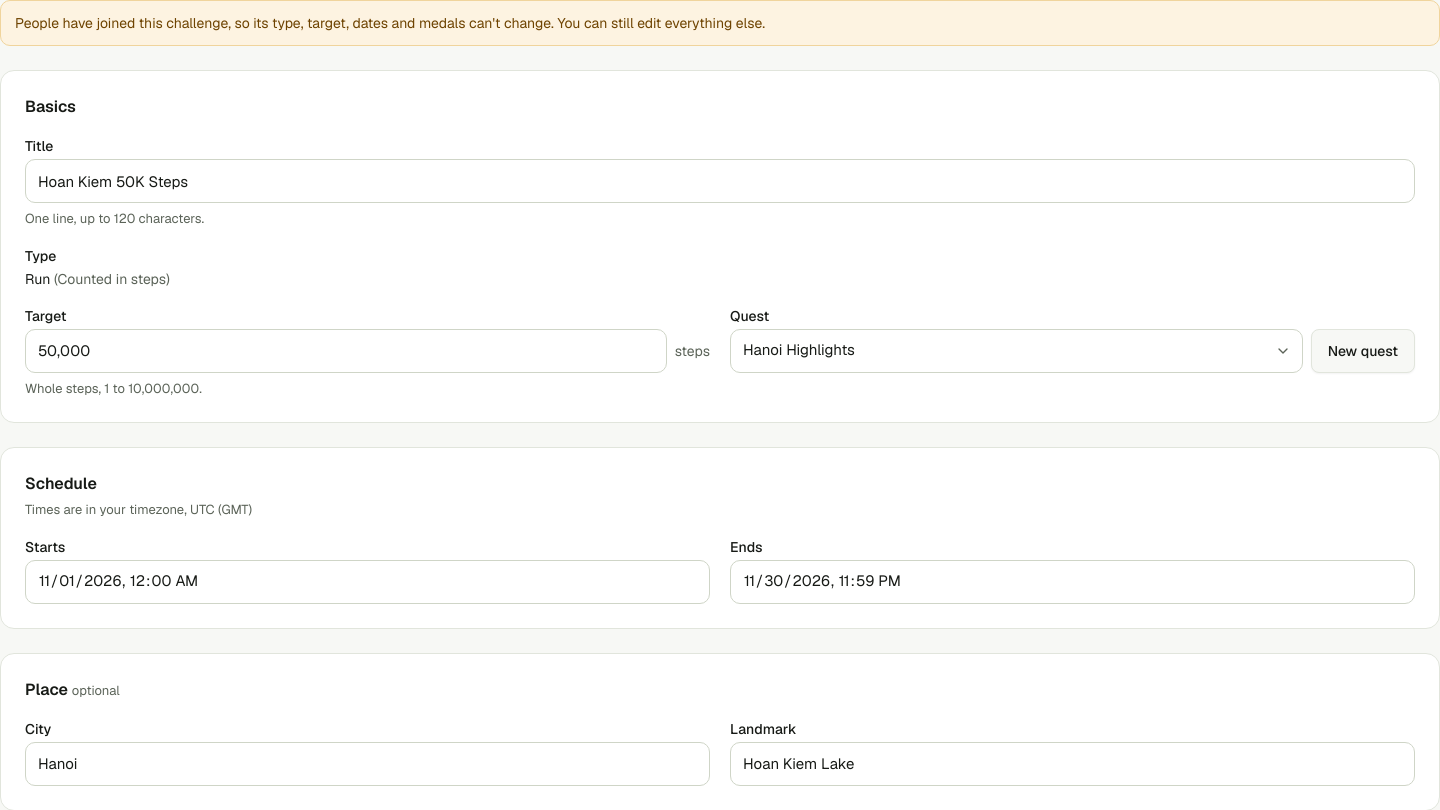
Test case: ChallengeForm, editing › when people have joined › shows challenge_in_use if the backend still refuses
Type "!" into the field labelled "Title" at (720, 181), box x1=25 y1=159 x2=1415 y2=203
(page scrolled)
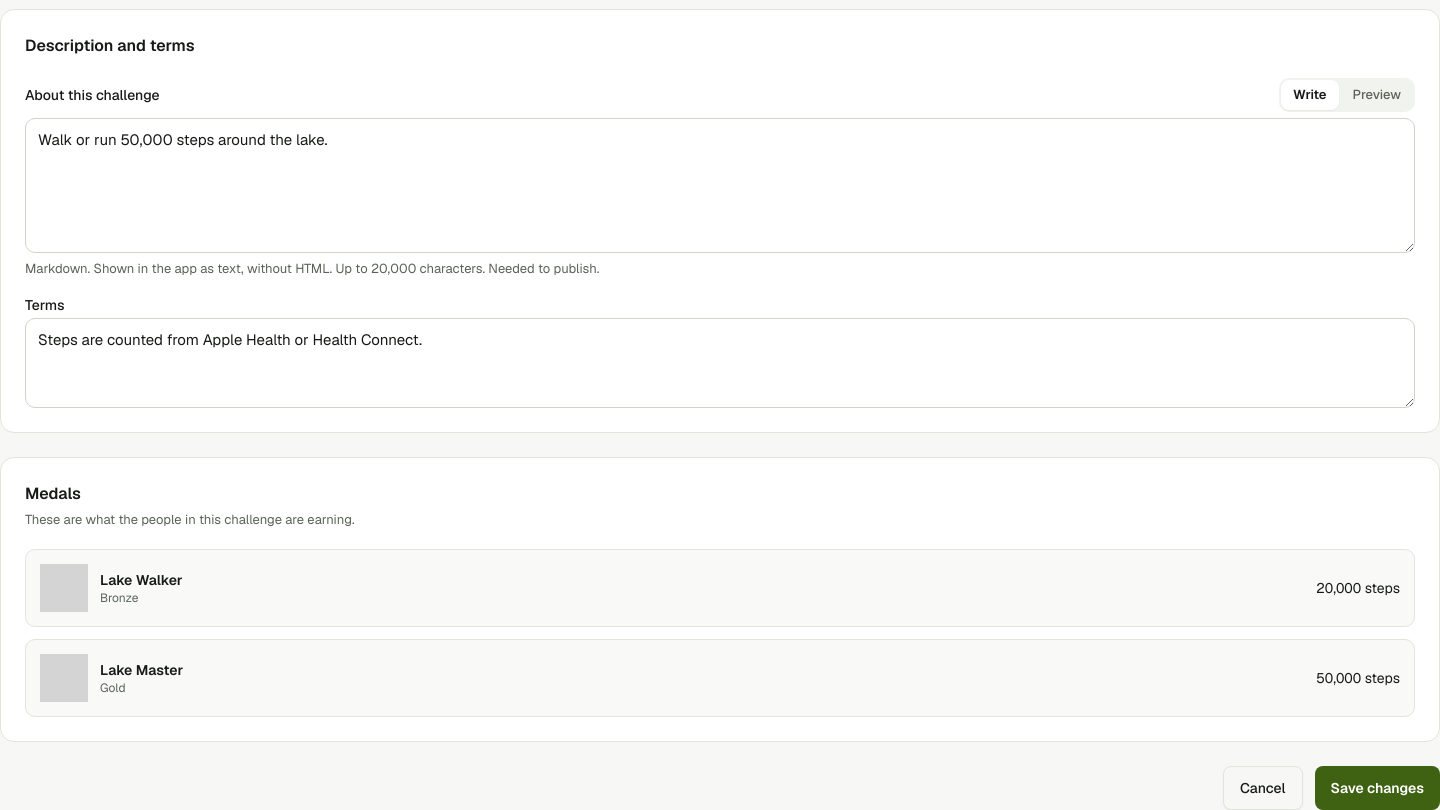
Click the button "Save changes" at (1377, 788), box x1=1314 y1=766 x2=1439 y2=809
(page scrolled)
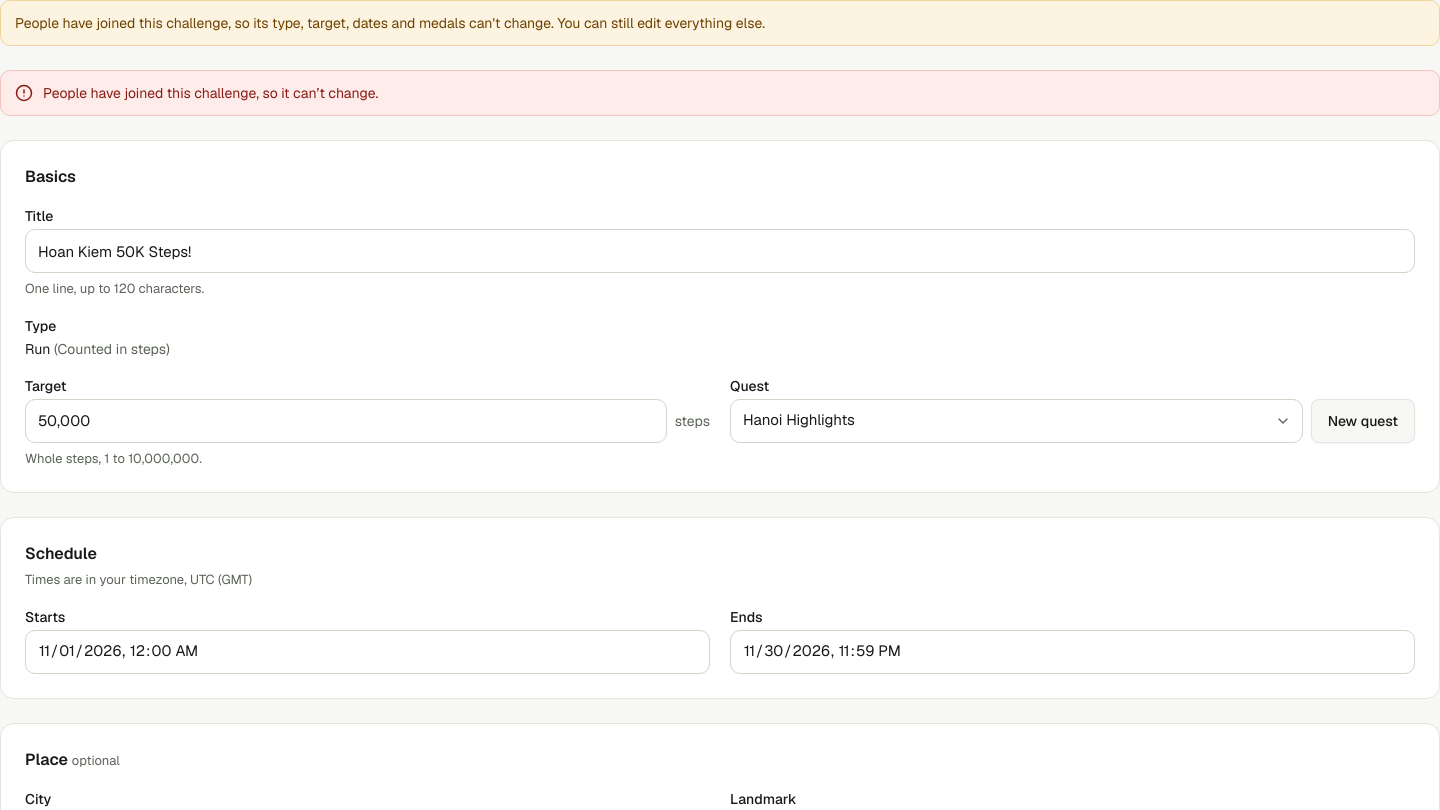
Expected: the message "People have joined this challenge, so it can’t change." is shown, x1=0 y1=70 x2=1439 y2=116
